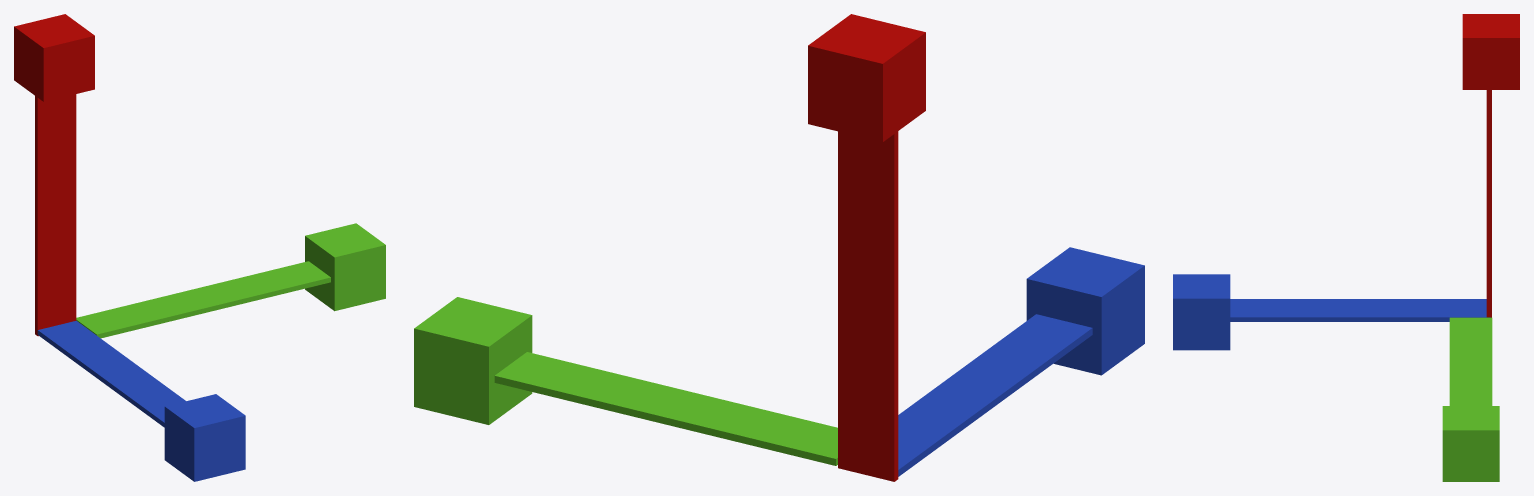
File: scale1.fbx
3 views of the same model, side by side, from view 1: azimuth 30°, elevation 25°; view 2: azimuth 150°, elevation 25°; view 3: azimuth 270°, elevation 25° (orthographic). The views are drawn at different scales.
Visible parts, largest first — view 1: ScaleY; view 2: ScaleY; view 3: ScaleY.
Boxes of the visible parts, x1=… form: ScaleY: x1=14, y1=14, x2=385, y2=481; ScaleY: x1=414, y1=14, x2=1144, y2=481; ScaleY: x1=1173, y1=14, x2=1519, y2=481.
Size of the model in its own units: 179 by 167 by 168.
3 materials, 3 textured.
